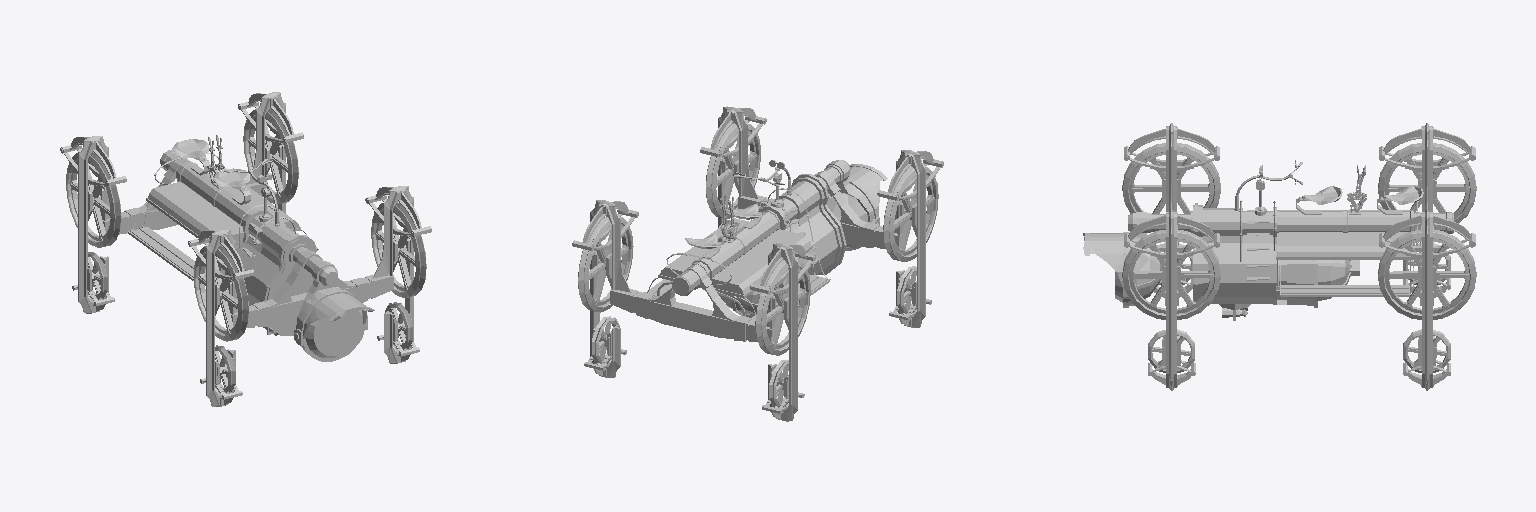
Rendered from Gringotts Mine Cart.obj.
The picture shows the model from 3 angles: view 1: azimuth 30°, elevation 25°; view 2: azimuth 150°, elevation 25°; view 3: azimuth 270°, elevation 25°; orthographic projection.
Visible parts, largest first — view 1: Mesh_0984, Mesh_1342, Mesh_1343; view 2: Mesh_0984, Mesh_1342; view 3: Mesh_0984, Mesh_1342.
Part boxes in pixels (left/top/right/bottom): Mesh_0984: left=60, top=92, right=431, bottom=406; Mesh_1342: left=131, top=135, right=299, bottom=276; Mesh_1343: left=305, top=310, right=362, bottom=357; Mesh_0984: left=572, top=106, right=943, bottom=421; Mesh_1342: left=648, top=160, right=827, bottom=319; Mesh_0984: left=1083, top=123, right=1476, bottom=390; Mesh_1342: left=1256, top=162, right=1423, bottom=292.
Size of the model in its own units: 28.04 by 22.99 by 46.07.